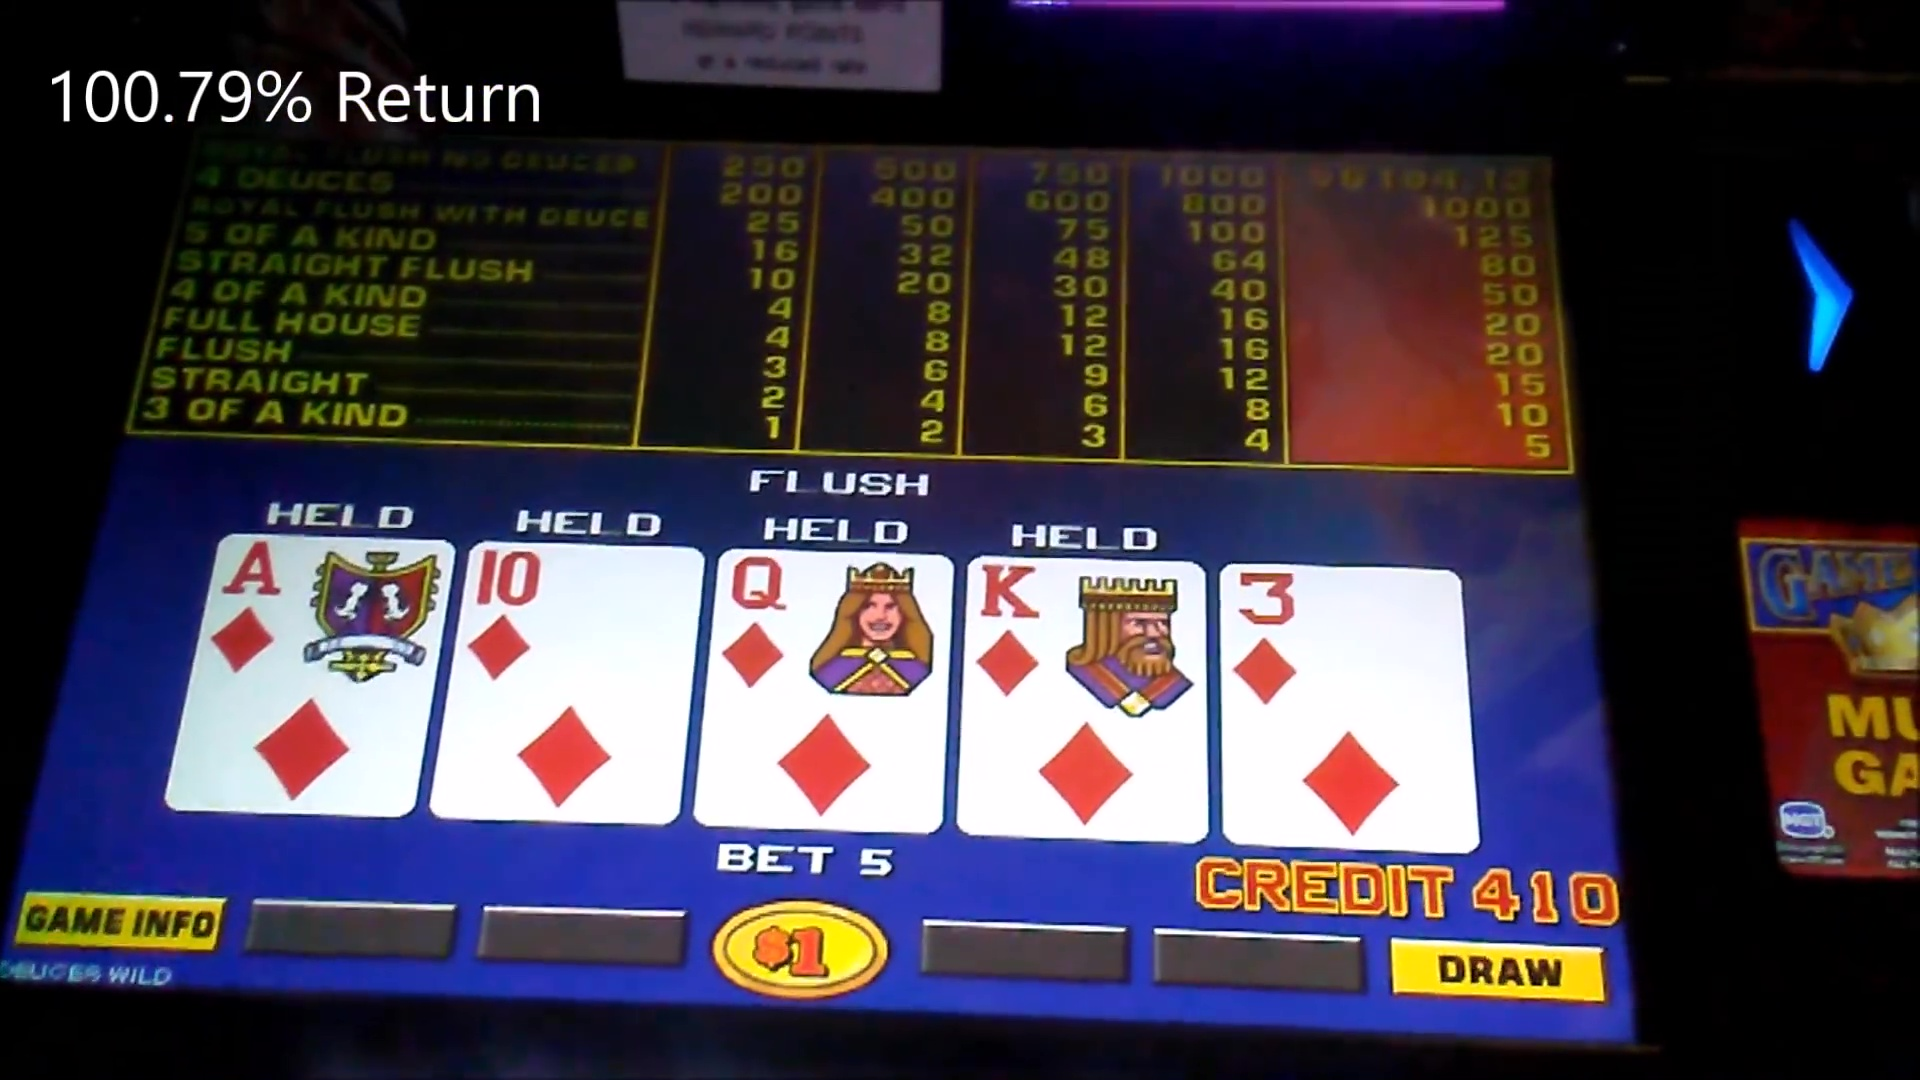3D: (1230, 576, 1462, 709)
AD: (216, 531, 434, 679)
KD: (975, 559, 1207, 717)
QD: (717, 549, 942, 698)
TD: (465, 545, 690, 680)
